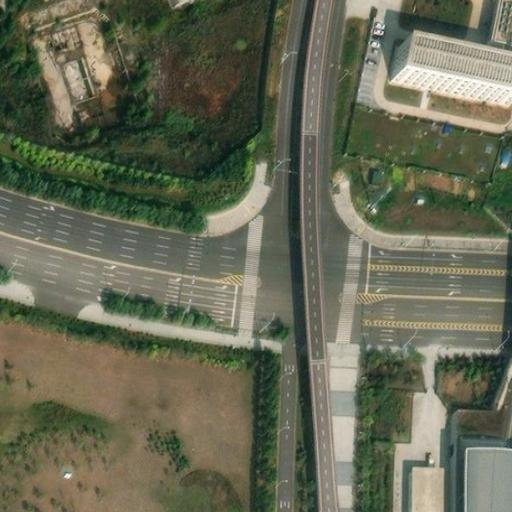building: (397, 43, 512, 102), (451, 354, 511, 441), (456, 437, 512, 512), (56, 52, 96, 104), (483, 0, 512, 65), (409, 457, 443, 512)
